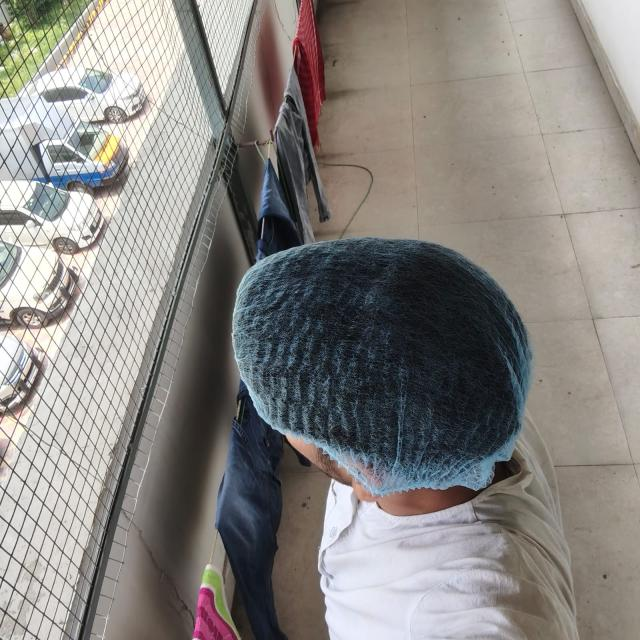hairnet-detection: (232, 238, 531, 515)
